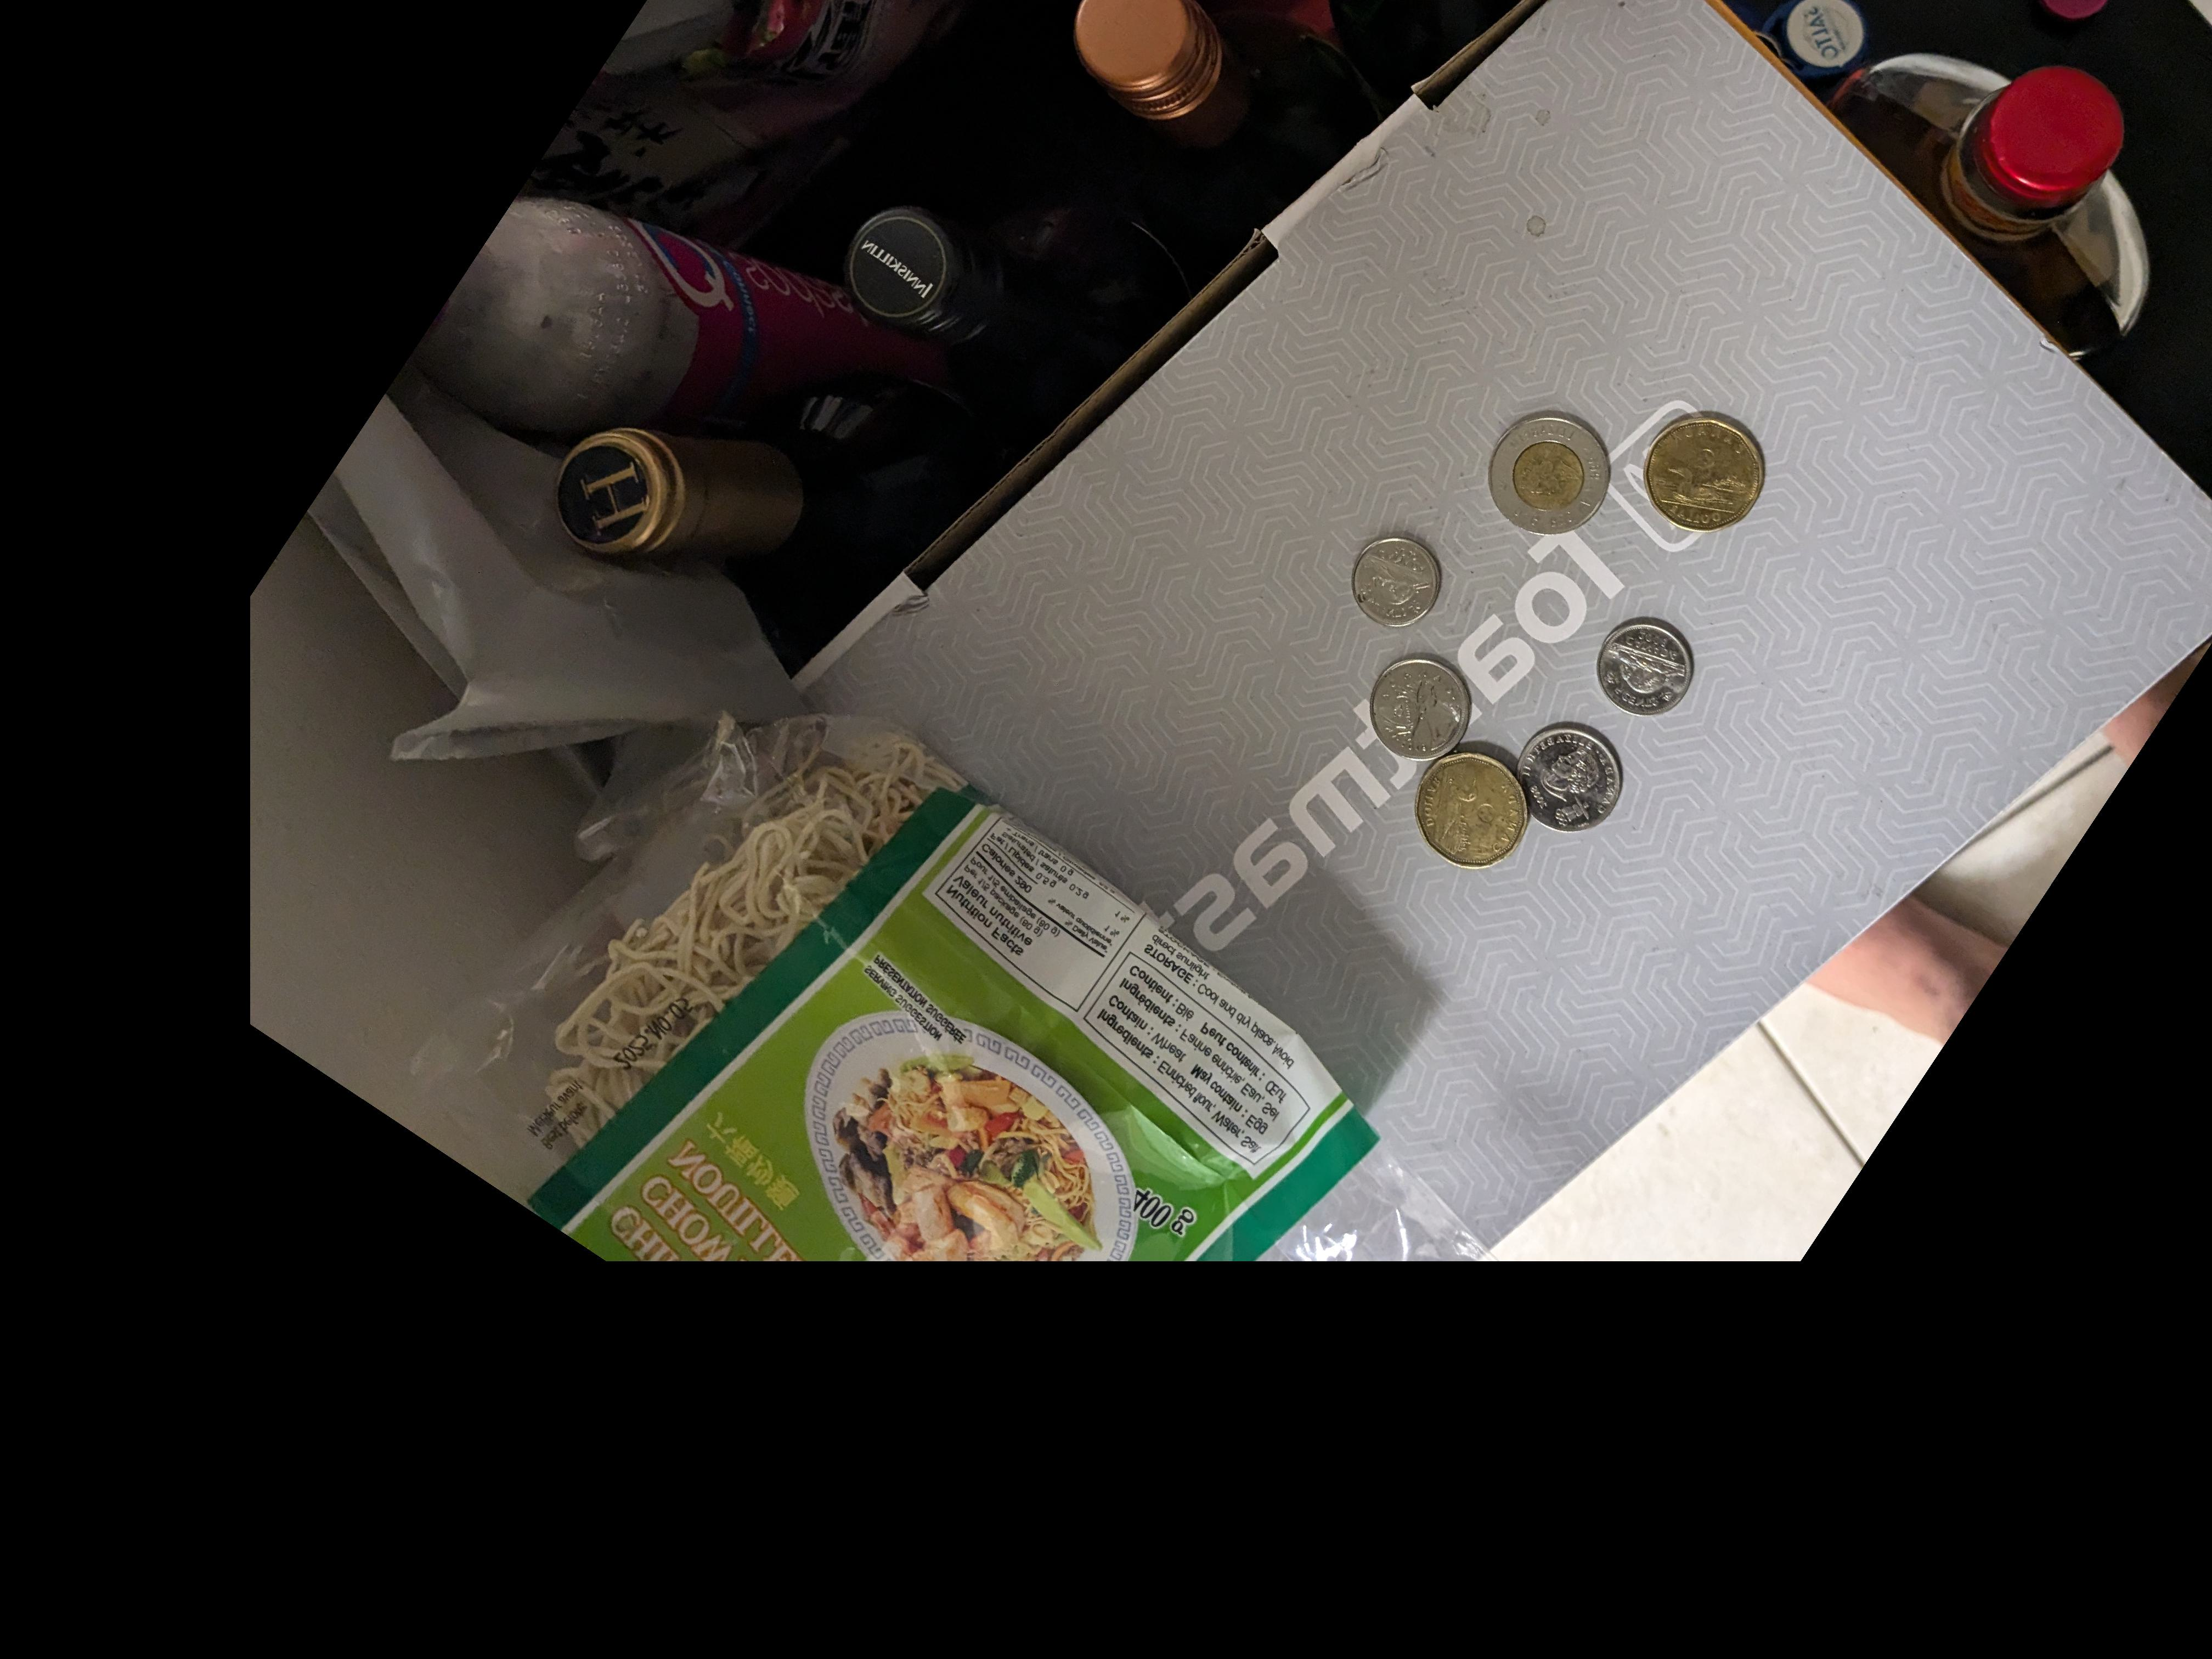loonie: (1644, 413, 1768, 537), (1416, 744, 1533, 864)
nickel: (1594, 615, 1693, 711), (1353, 533, 1449, 626)
quarter: (1517, 718, 1623, 830), (1367, 653, 1474, 763)
toonie: (1491, 408, 1615, 535)
